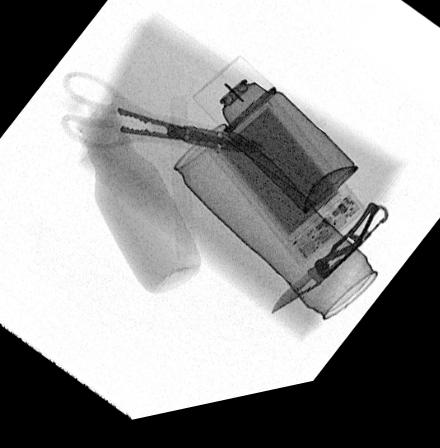Knife: (271, 217, 386, 327)
Powerbank: (205, 103, 363, 277)
Scissors: (59, 76, 265, 168)
Sprayer: (190, 63, 359, 229)
